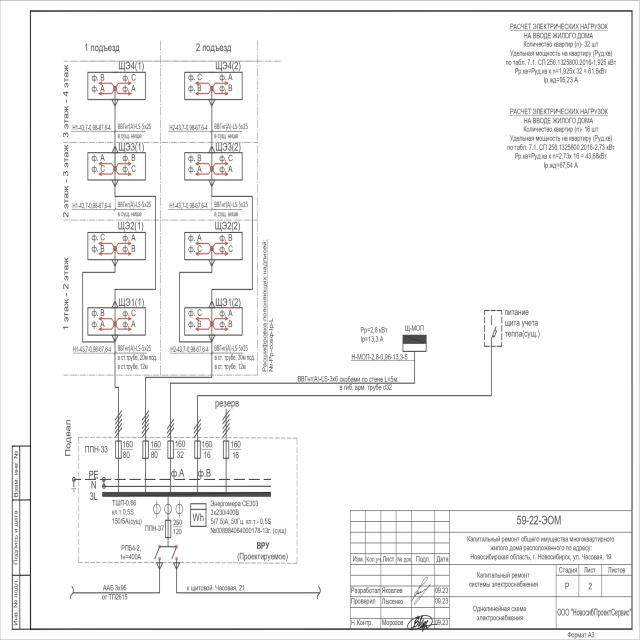-: (210, 499, 287, 536), (111, 498, 142, 526), (85, 442, 108, 456), (174, 438, 186, 461), (122, 440, 134, 460), (150, 440, 162, 460), (202, 440, 212, 460), (144, 524, 164, 534), (231, 439, 241, 459), (254, 540, 272, 550), (172, 519, 182, 536)
FU: (114, 440, 122, 460), (222, 440, 230, 460), (194, 440, 202, 460), (164, 519, 172, 539), (142, 440, 150, 460), (167, 440, 174, 460)
QF: (120, 542, 142, 560)
QS: (154, 544, 180, 562)
TT: (153, 501, 184, 519)
WH: (189, 502, 207, 529)
